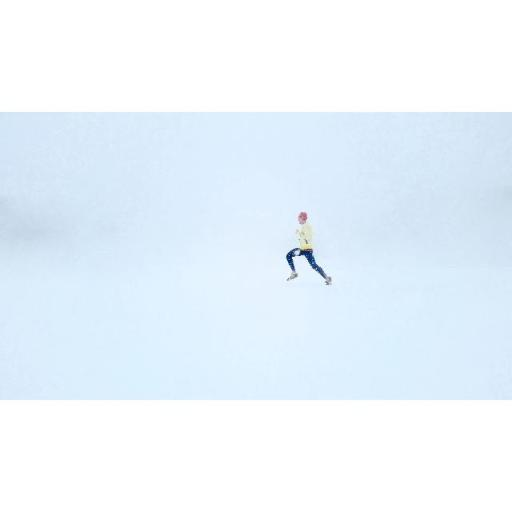Running: (274, 196, 340, 296)
